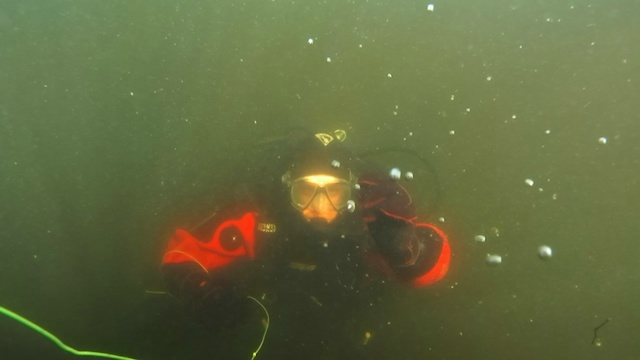Diver: (127, 128, 503, 350)
Head: (257, 135, 370, 246)
